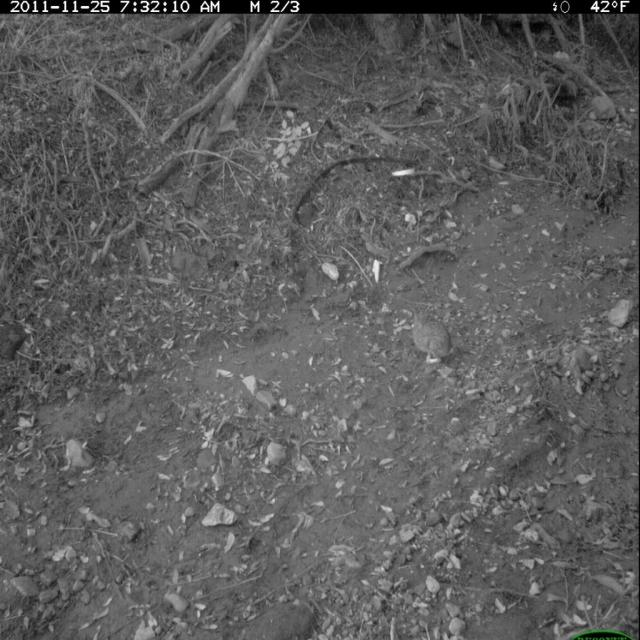rabbit: (407, 304, 455, 369)
